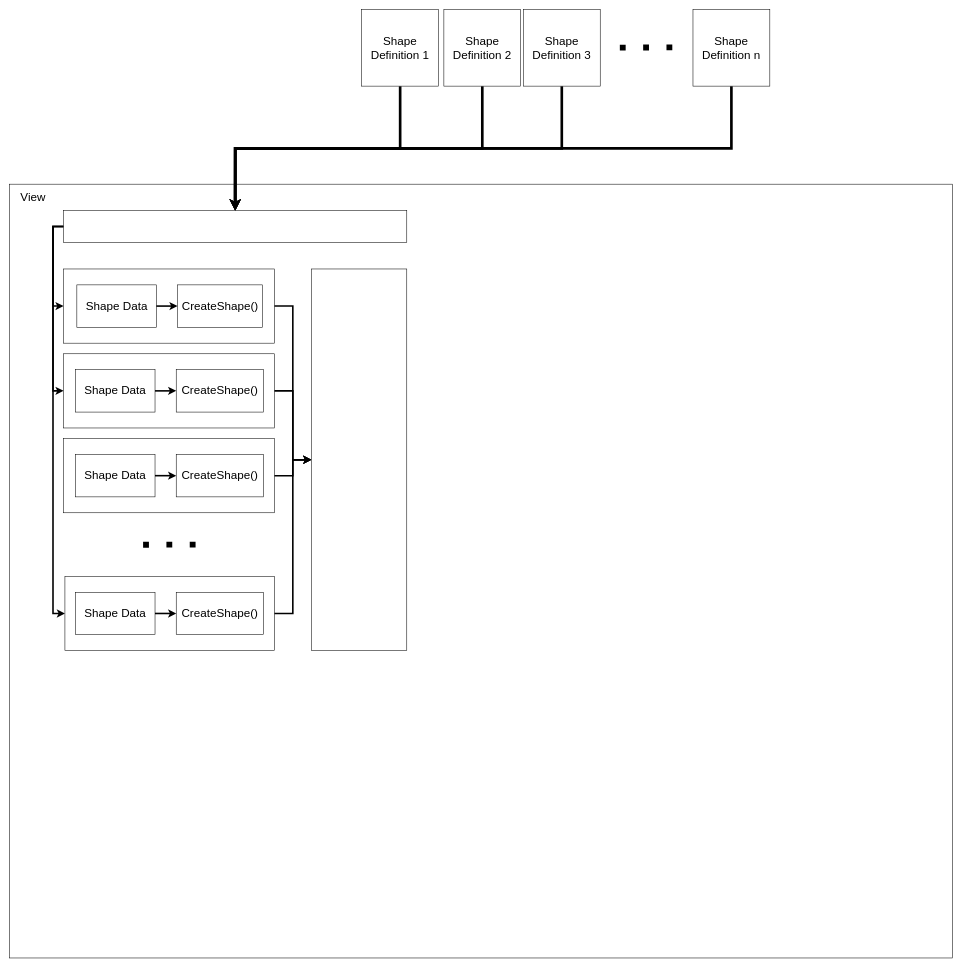
Some shapes in this 962 by 967 pixel diagram are drawn without their labels. The shapes that lost their labels are listed below. From the top down, each one's centre as x and y in pixels, then its label:
At pixel 235 226: "Shape Definition Discerner".
At pixel 359 459: "RenderShape()".
